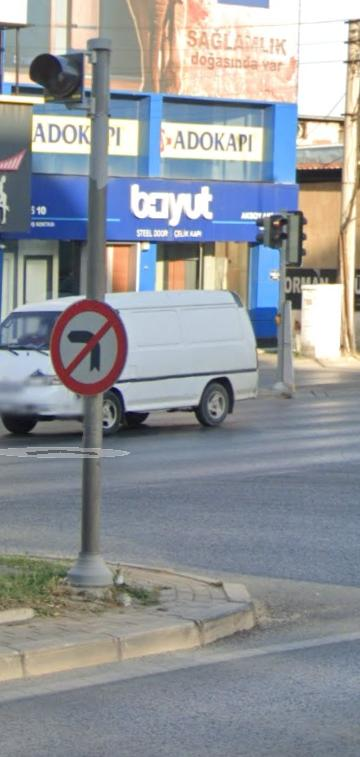leftturnsareforbidden: (52, 302, 125, 392)
